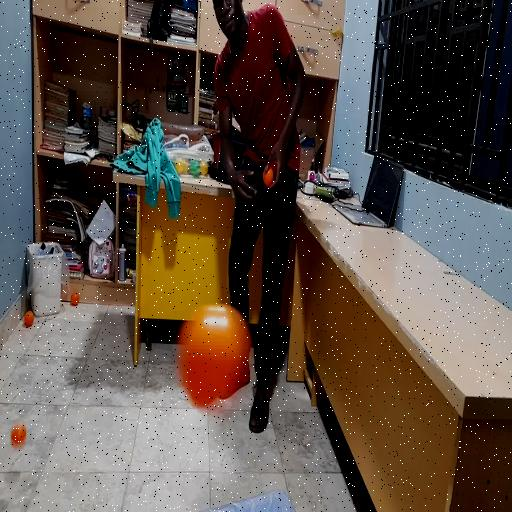plastic-ball: (176, 301, 253, 412)
